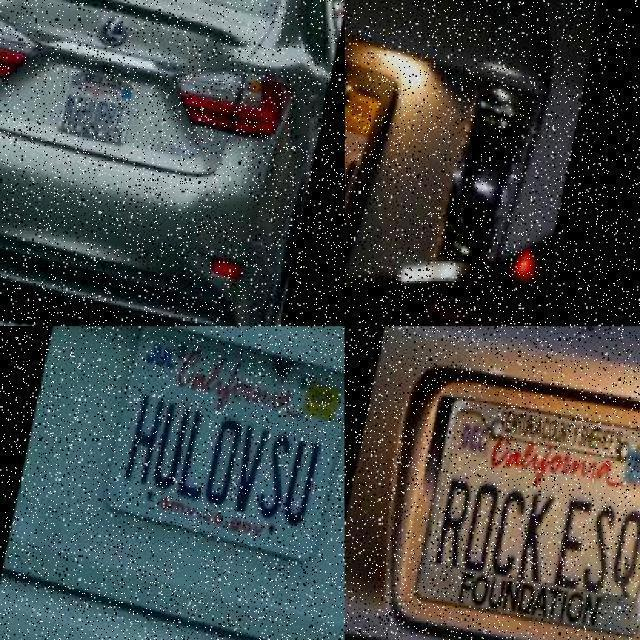License Plate: (102, 326, 346, 552), (416, 386, 640, 630), (345, 14, 473, 296), (62, 54, 142, 134)
